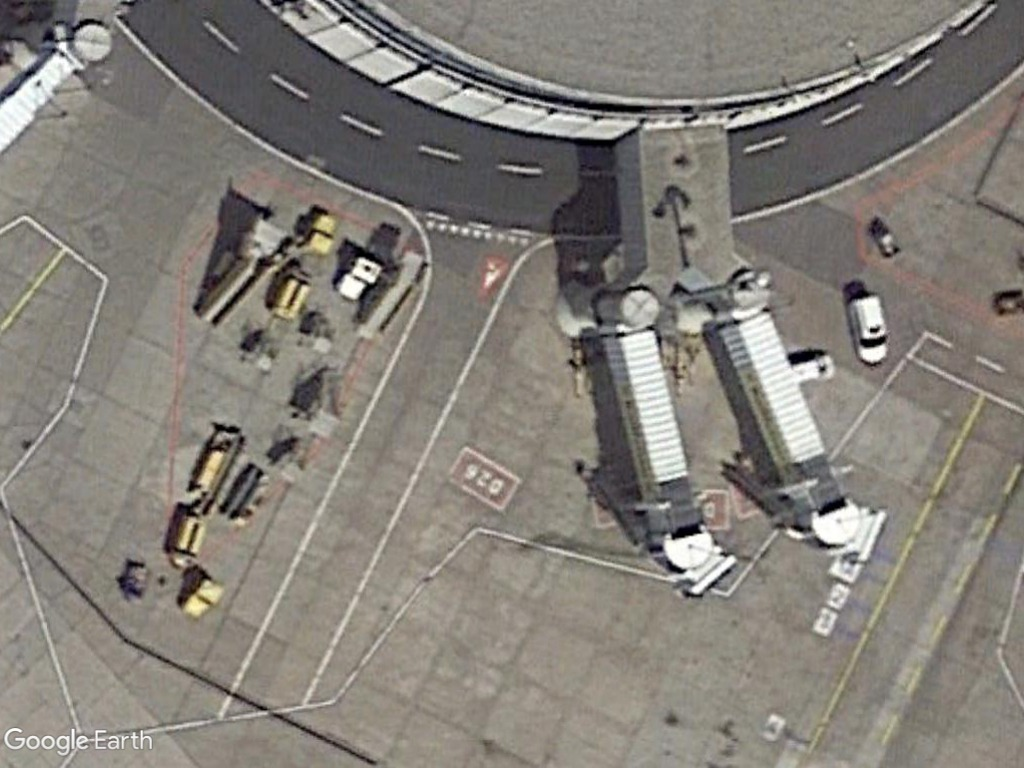stairtruck: (193, 213, 293, 331), (353, 245, 428, 343)
van: (843, 289, 892, 366)
